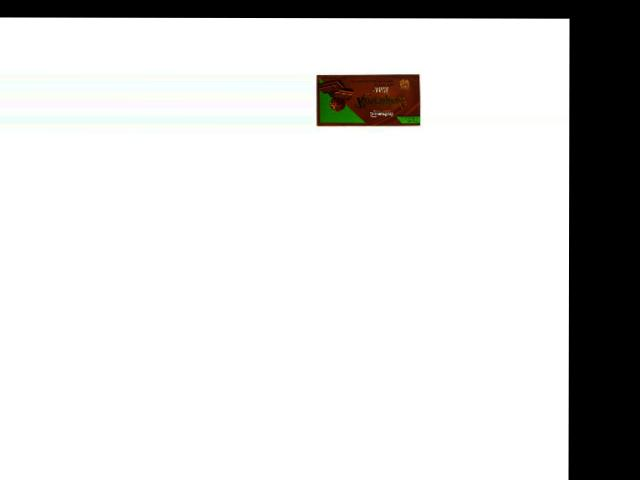chocolate: (314, 69, 424, 128)
